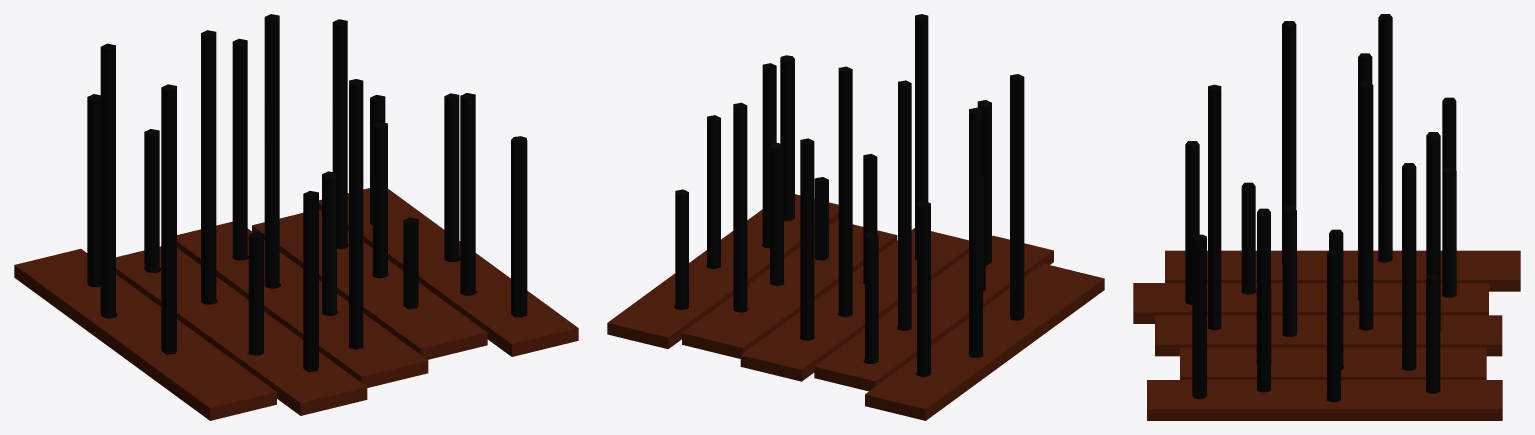
File: trampaActivaNvl1.fbx
3 views of the same model, side by side, from view 1: azimuth 30°, elevation 25°; view 2: azimuth 150°, elevation 25°; view 3: azimuth 270°, elevation 25° (orthographic). The views are drawn at different scales.
Parts seen in each view (by area): view 1: Box002, Box003, Box004, Box006, Box005, Cylinder025, Cylinder030, Cylinder028, Cylinder024, Cylinder022, Cylinder019, Cylinder031 (+6 smaller); view 2: Box002, Box004, Box006, Box003, Box005, Cylinder025, Cylinder028, Cylinder030, Cylinder022, Cylinder024, Cylinder031, Cylinder020 (+5 smaller); view 3: Box006, Box004, Box002, Box003, Box005, Cylinder030, Cylinder025, Cylinder022, Cylinder019, Cylinder024, Cylinder020, Cylinder026 (+6 smaller).
Part boxes in pixels (x1=…): Box002: x1=14, y1=84, x2=276, y2=420; Box003: x1=116, y1=191, x2=367, y2=415; Box004: x1=177, y1=79, x2=428, y2=387; Box006: x1=319, y1=136, x2=578, y2=356; Box005: x1=252, y1=209, x2=487, y2=359; Cylinder025: x1=264, y1=14, x2=279, y2=288; Cylinder030: x1=100, y1=43, x2=115, y2=318; Cylinder028: x1=201, y1=30, x2=216, y2=304; Cylinder024: x1=232, y1=38, x2=247, y2=260; Cylinder022: x1=332, y1=19, x2=347, y2=248; Cylinder019: x1=460, y1=93, x2=475, y2=295; Cylinder031: x1=87, y1=94, x2=100, y2=286; Box002: x1=865, y1=74, x2=1104, y2=420; Box004: x1=740, y1=14, x2=968, y2=381; Box006: x1=607, y1=55, x2=838, y2=349; Box003: x1=814, y1=100, x2=1053, y2=391; Box005: x1=682, y1=177, x2=897, y2=358; Cylinder025: x1=838, y1=66, x2=852, y2=316; Cylinder028: x1=898, y1=80, x2=911, y2=330; Cylinder030: x1=969, y1=107, x2=982, y2=357; Cylinder022: x1=733, y1=102, x2=747, y2=312; Cylinder024: x1=800, y1=138, x2=814, y2=340; Cylinder031: x1=917, y1=200, x2=930, y2=376; Cylinder020: x1=707, y1=115, x2=720, y2=268; Box006: x1=1147, y1=234, x2=1502, y2=420; Box004: x1=1155, y1=84, x2=1502, y2=356; Box002: x1=1165, y1=21, x2=1520, y2=291; Box003: x1=1133, y1=141, x2=1488, y2=323; Box005: x1=1180, y1=287, x2=1486, y2=379; Cylinder030: x1=1378, y1=14, x2=1392, y2=262; Cylinder025: x1=1359, y1=82, x2=1373, y2=330; Cylinder022: x1=1402, y1=163, x2=1416, y2=370; Cylinder019: x1=1257, y1=208, x2=1270, y2=392; Cylinder024: x1=1426, y1=132, x2=1440, y2=330; Cylinder020: x1=1327, y1=249, x2=1340, y2=402; Cylinder026: x1=1282, y1=206, x2=1296, y2=337.
Bounding box in the file's own units: 0.9223 × 0.689 × 0.9507.
